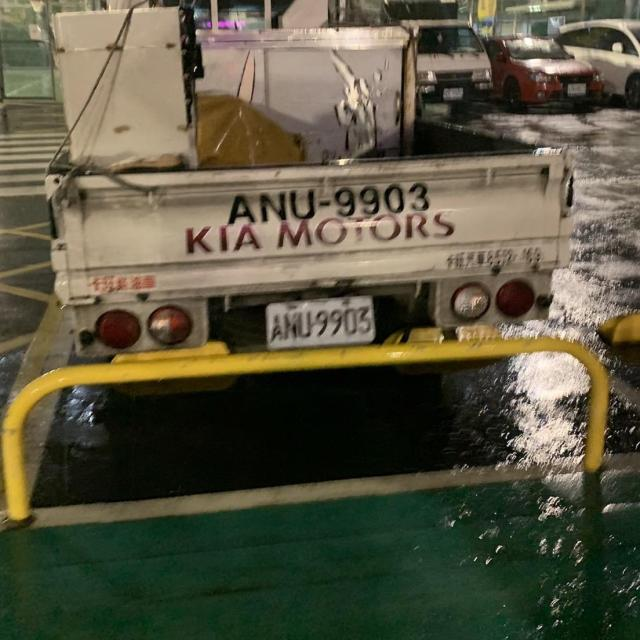W: (266, 294, 378, 353), (562, 79, 592, 100)
